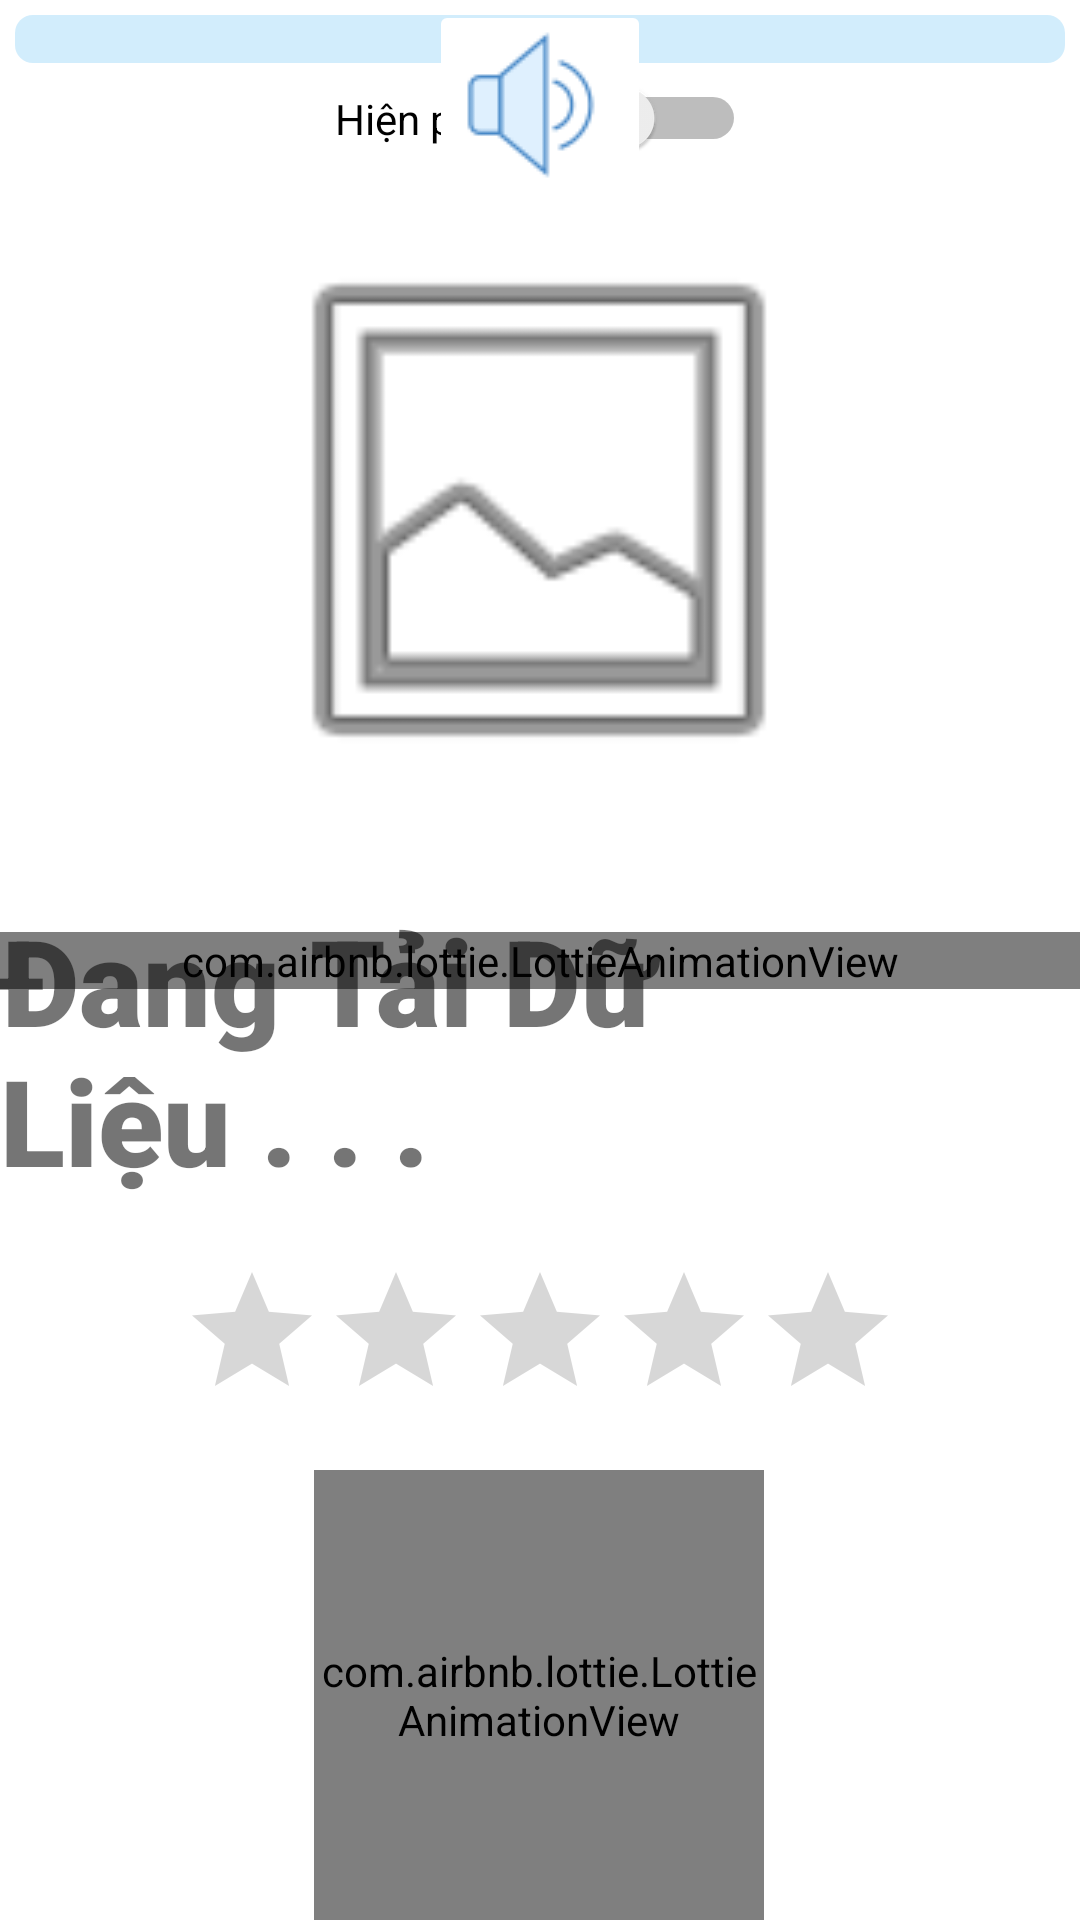

Icons on this 1080×1920 Android screen, each with its box as {"left": x1, "top": y1, "right": x2, "bottom": y2}:
voice: {"left": 433, "top": 33, "right": 595, "bottom": 177}
